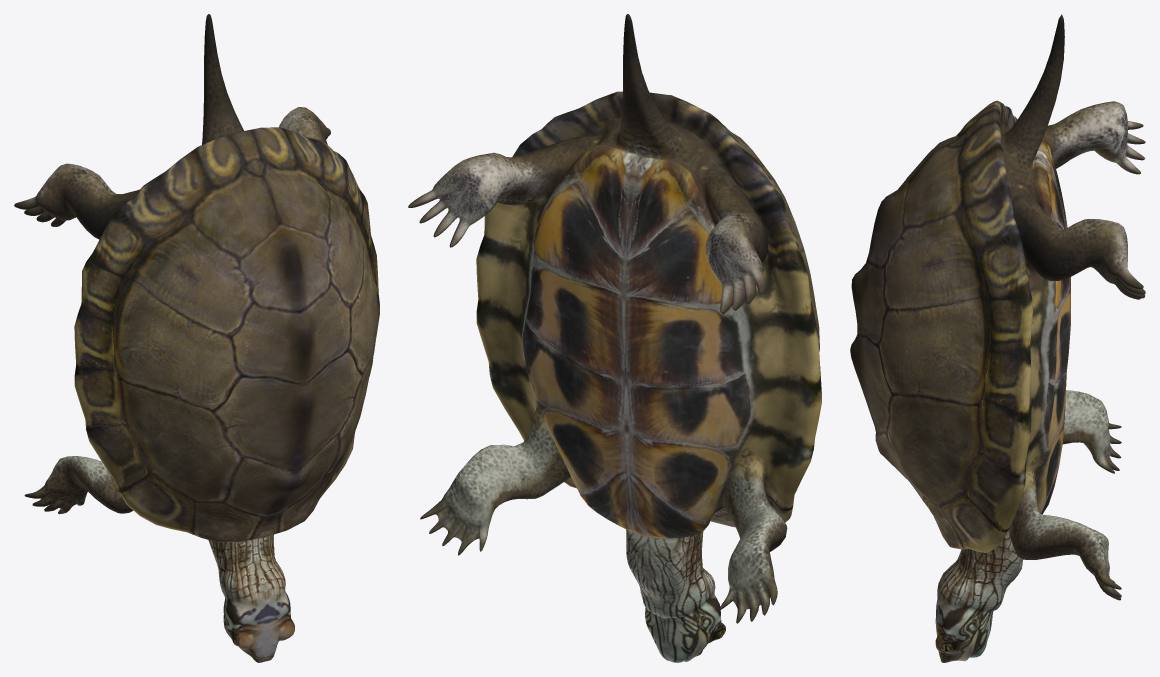
File: 13103_pearlturtle_v1_l2.glb
3 renders of one model, left to right at view 1: azimuth 30°, elevation 25°; view 2: azimuth 150°, elevation 25°; view 3: azimuth 270°, elevation 25°, orthographic. The views are drawn at different scales.
Parts seen in each view (by area): view 1: g 13103_pearlturtle; view 2: g 13103_pearlturtle; view 3: g 13103_pearlturtle.
Part boxes in pixels (x1,y1,x2,y2): g 13103_pearlturtle: [14, 14, 379, 662]; g 13103_pearlturtle: [408, 14, 821, 662]; g 13103_pearlturtle: [850, 14, 1145, 662].
Bounding box in the file's own units: 10.21 × 18.86 × 7.82.
Materials: 1 (1 with a texture image).
